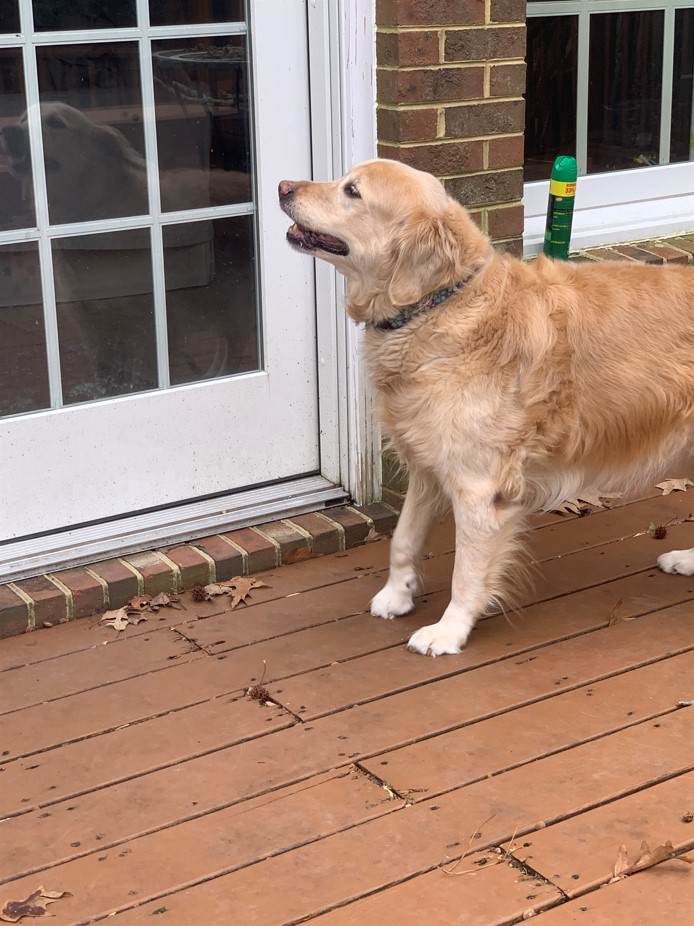bella: (277, 158, 463, 306)
